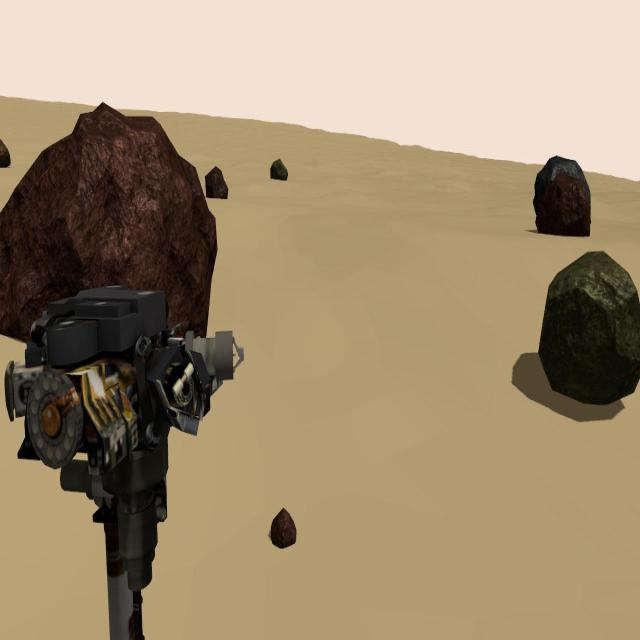rock: (0, 101, 217, 343), (538, 252, 640, 404), (533, 155, 591, 225), (534, 173, 590, 238), (271, 509, 296, 548), (206, 167, 228, 200), (270, 160, 289, 182), (0, 138, 11, 167)
